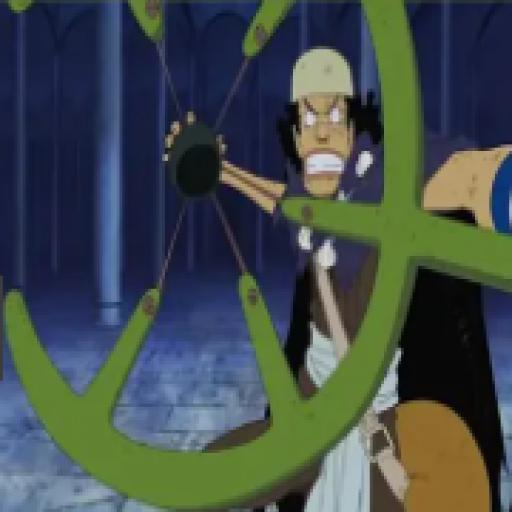Usopp: (159, 39, 512, 512)
